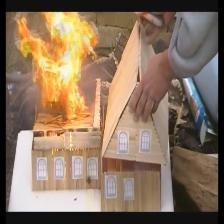fire: (25, 14, 90, 119)
